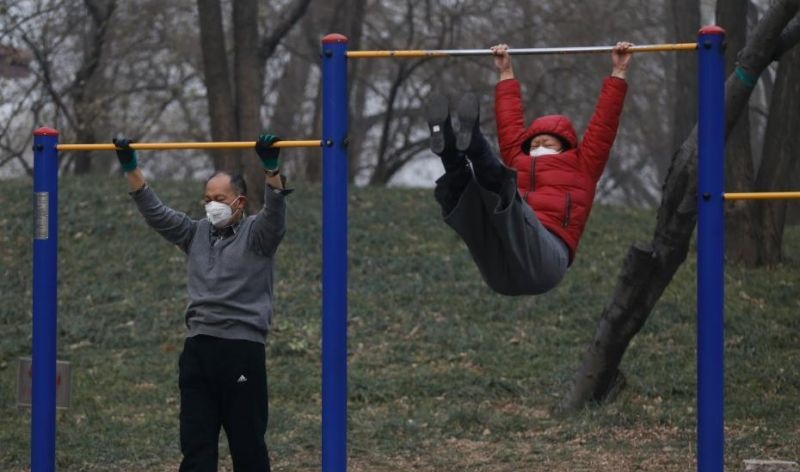face_mask: (199, 179, 240, 226), (529, 137, 560, 156)
